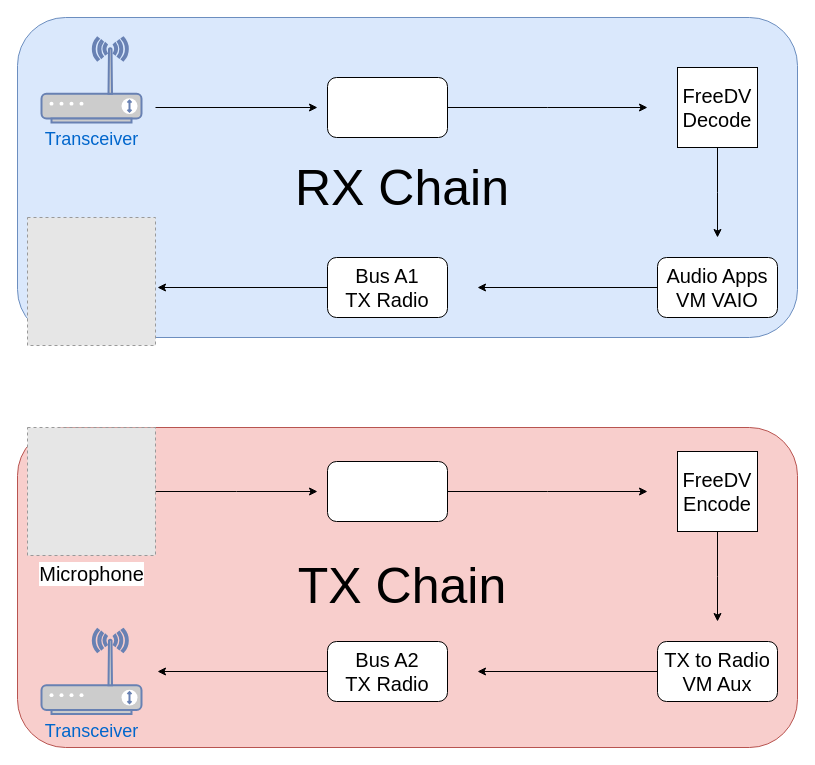
Image size: 815x765. Some labels were removed from this diagram. Grey dashed boxes stand in for pictures. The shapes that lost their labels are listed below. From the top down, each one's centre as x and y in pixels, then its label:
At (x=387, y=107): "BUS B2 Radio Sink".
At (x=387, y=491): "BUS B1 Gen Sink".
